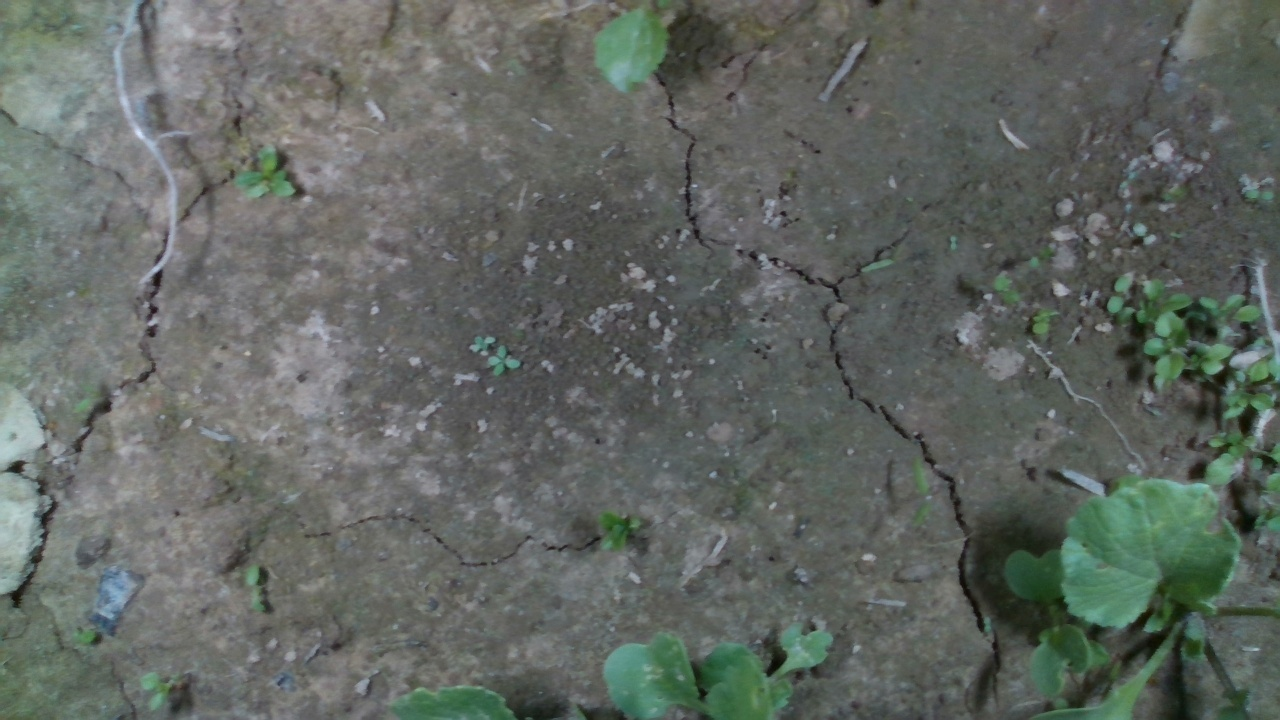weed: (907, 456, 931, 531), (242, 561, 266, 616), (1029, 305, 1060, 335), (1242, 187, 1276, 204)
